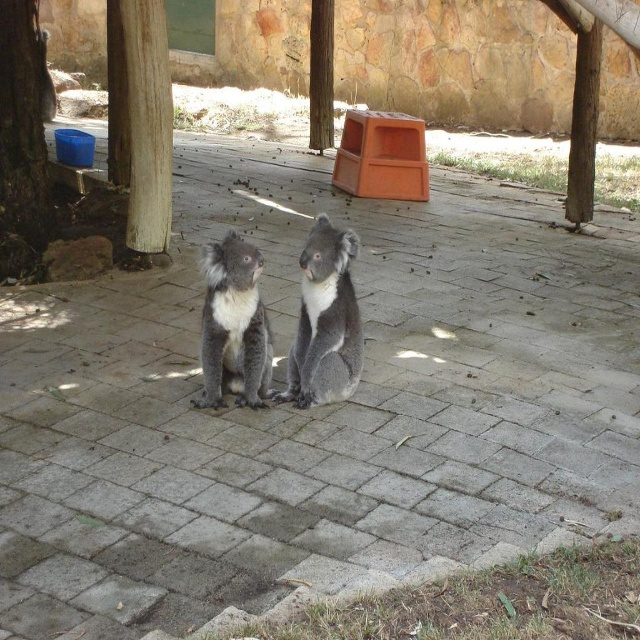Koala: (271, 206, 362, 411), (188, 224, 278, 409)
